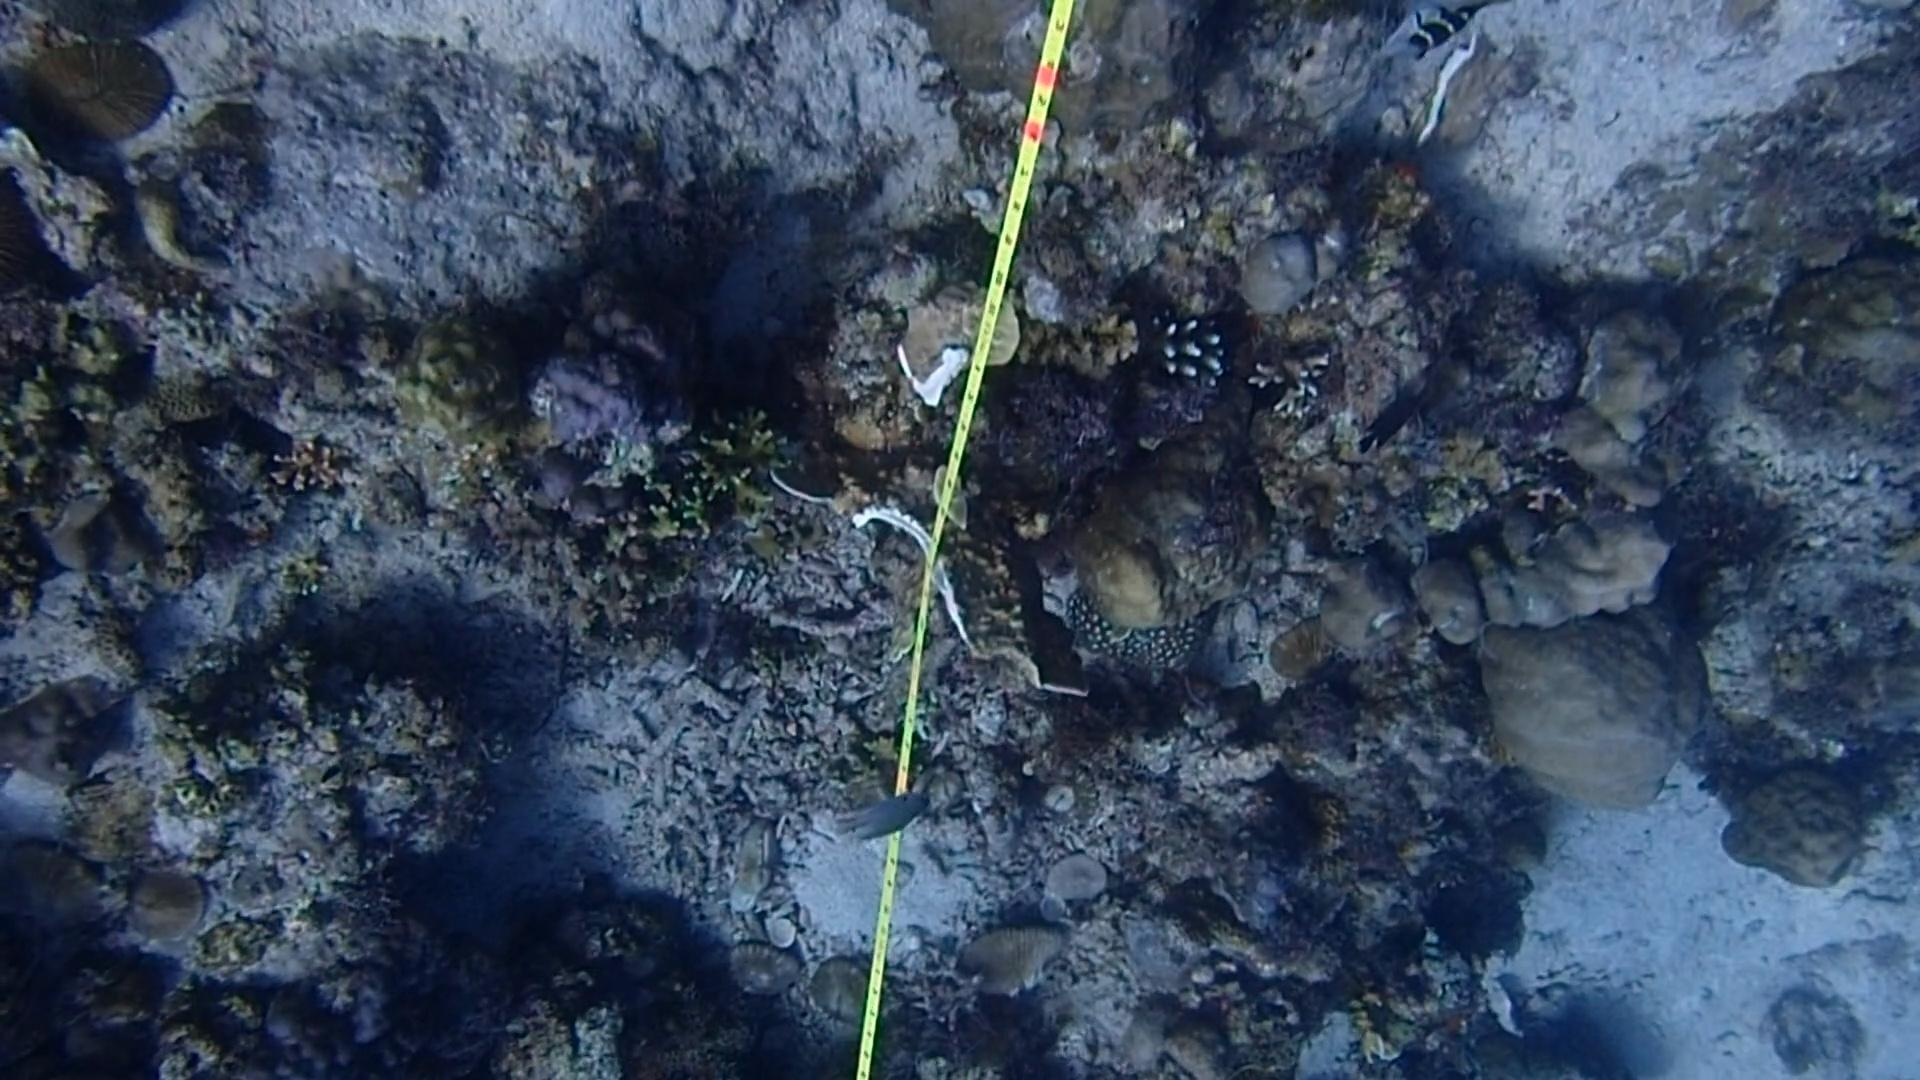Striped Fish: (1398, 0, 1495, 65)
